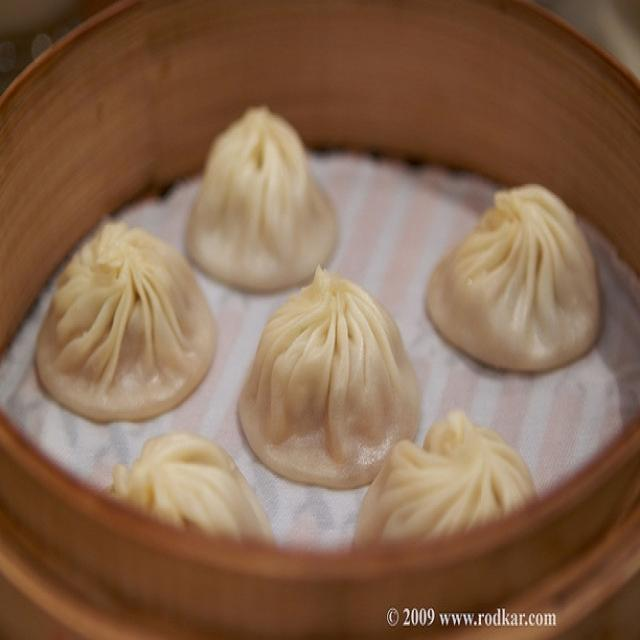带馅早点: (38, 35, 621, 588)
